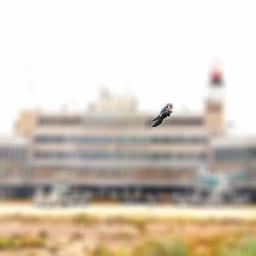Swallow: (151, 103, 173, 127)
